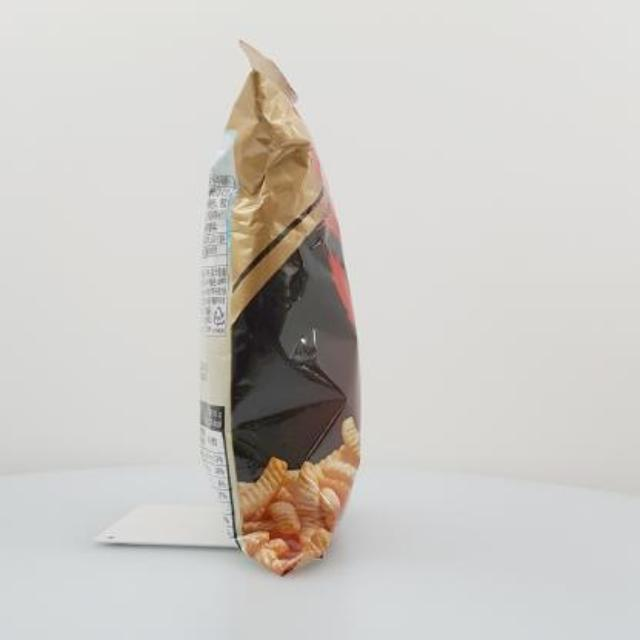snack_bag: (153, 27, 399, 600)
